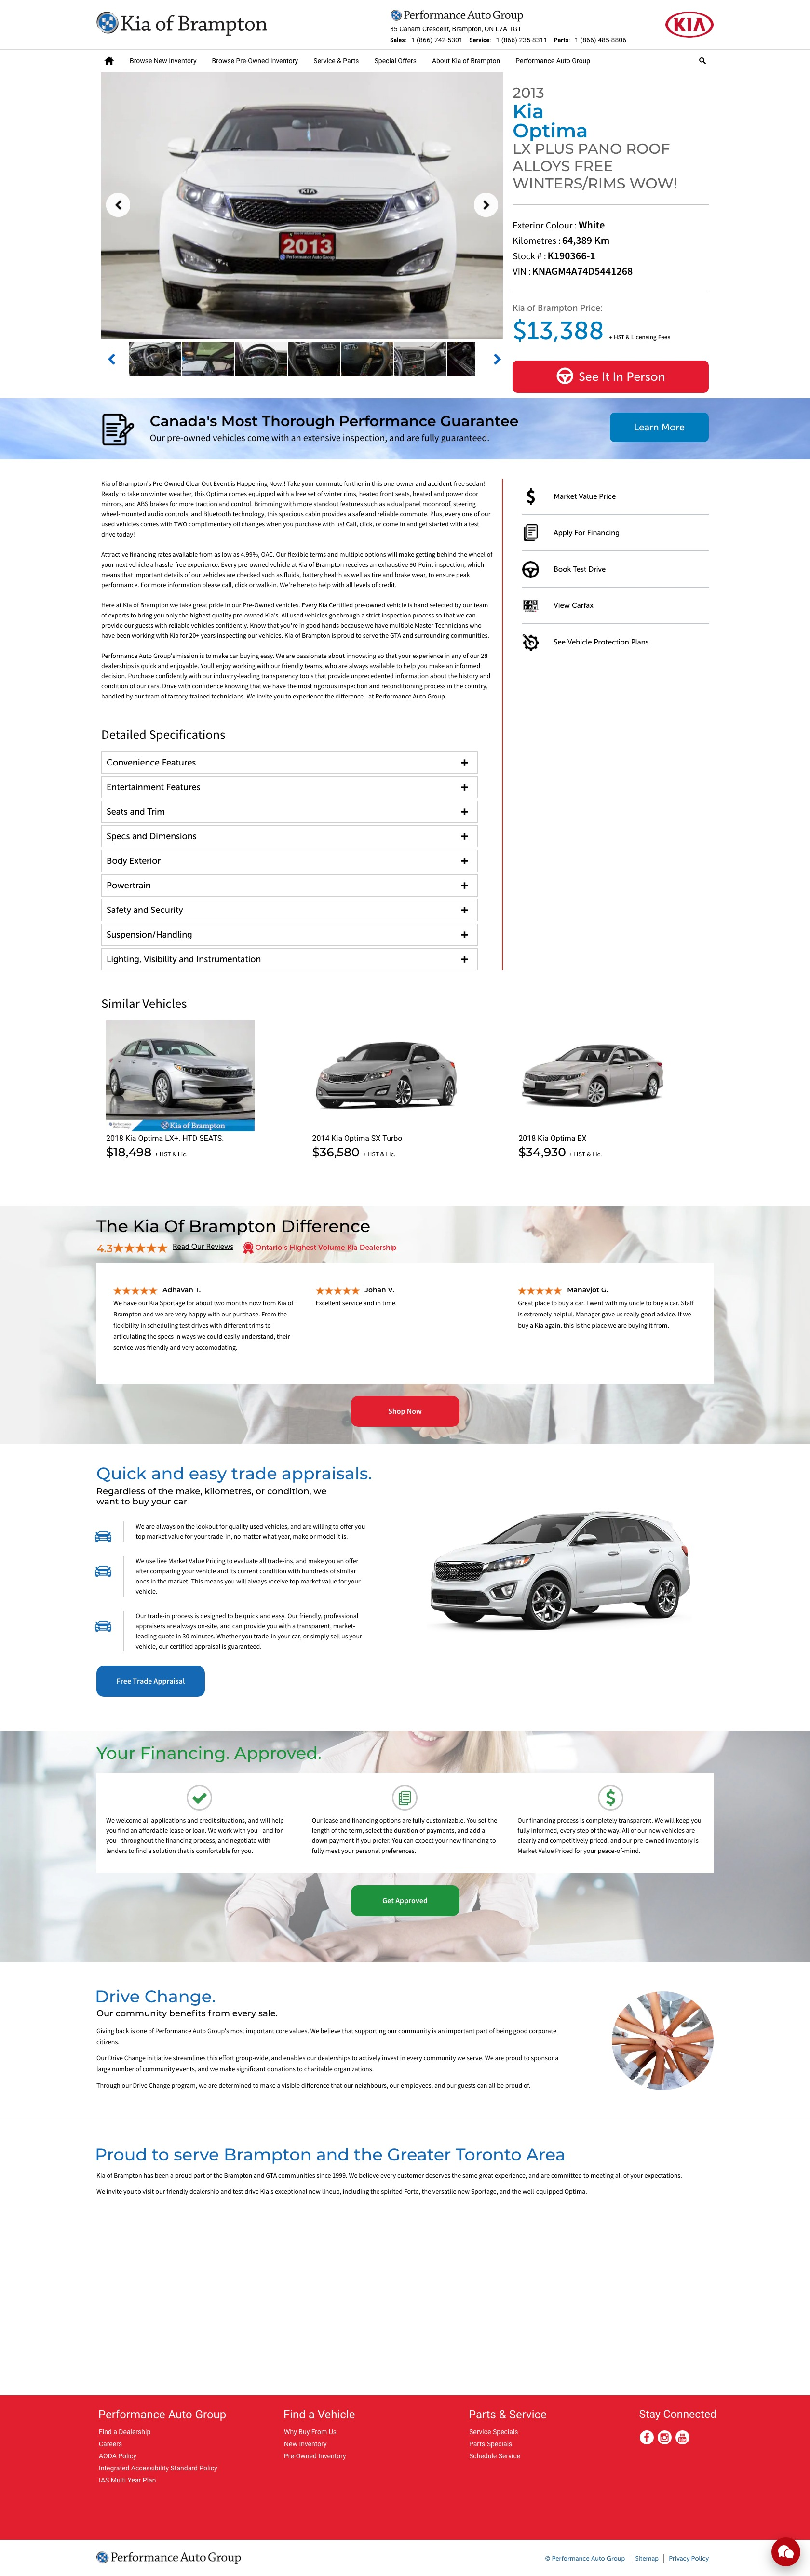car: (493, 353, 501, 365)
